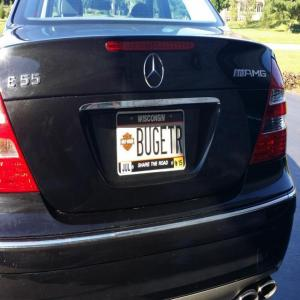Plate: (116, 109, 186, 175)
